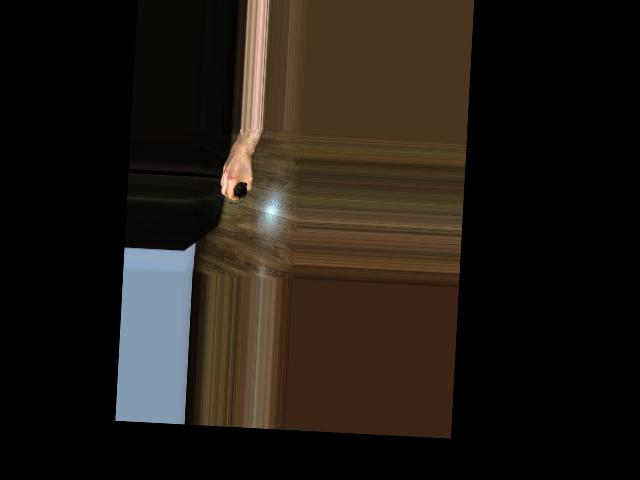beet: (229, 182, 247, 205)
